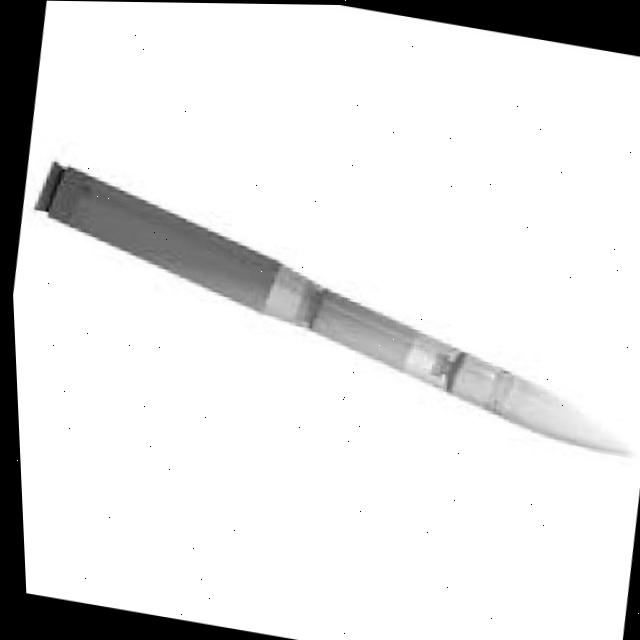missile: (9, 148, 640, 460)
